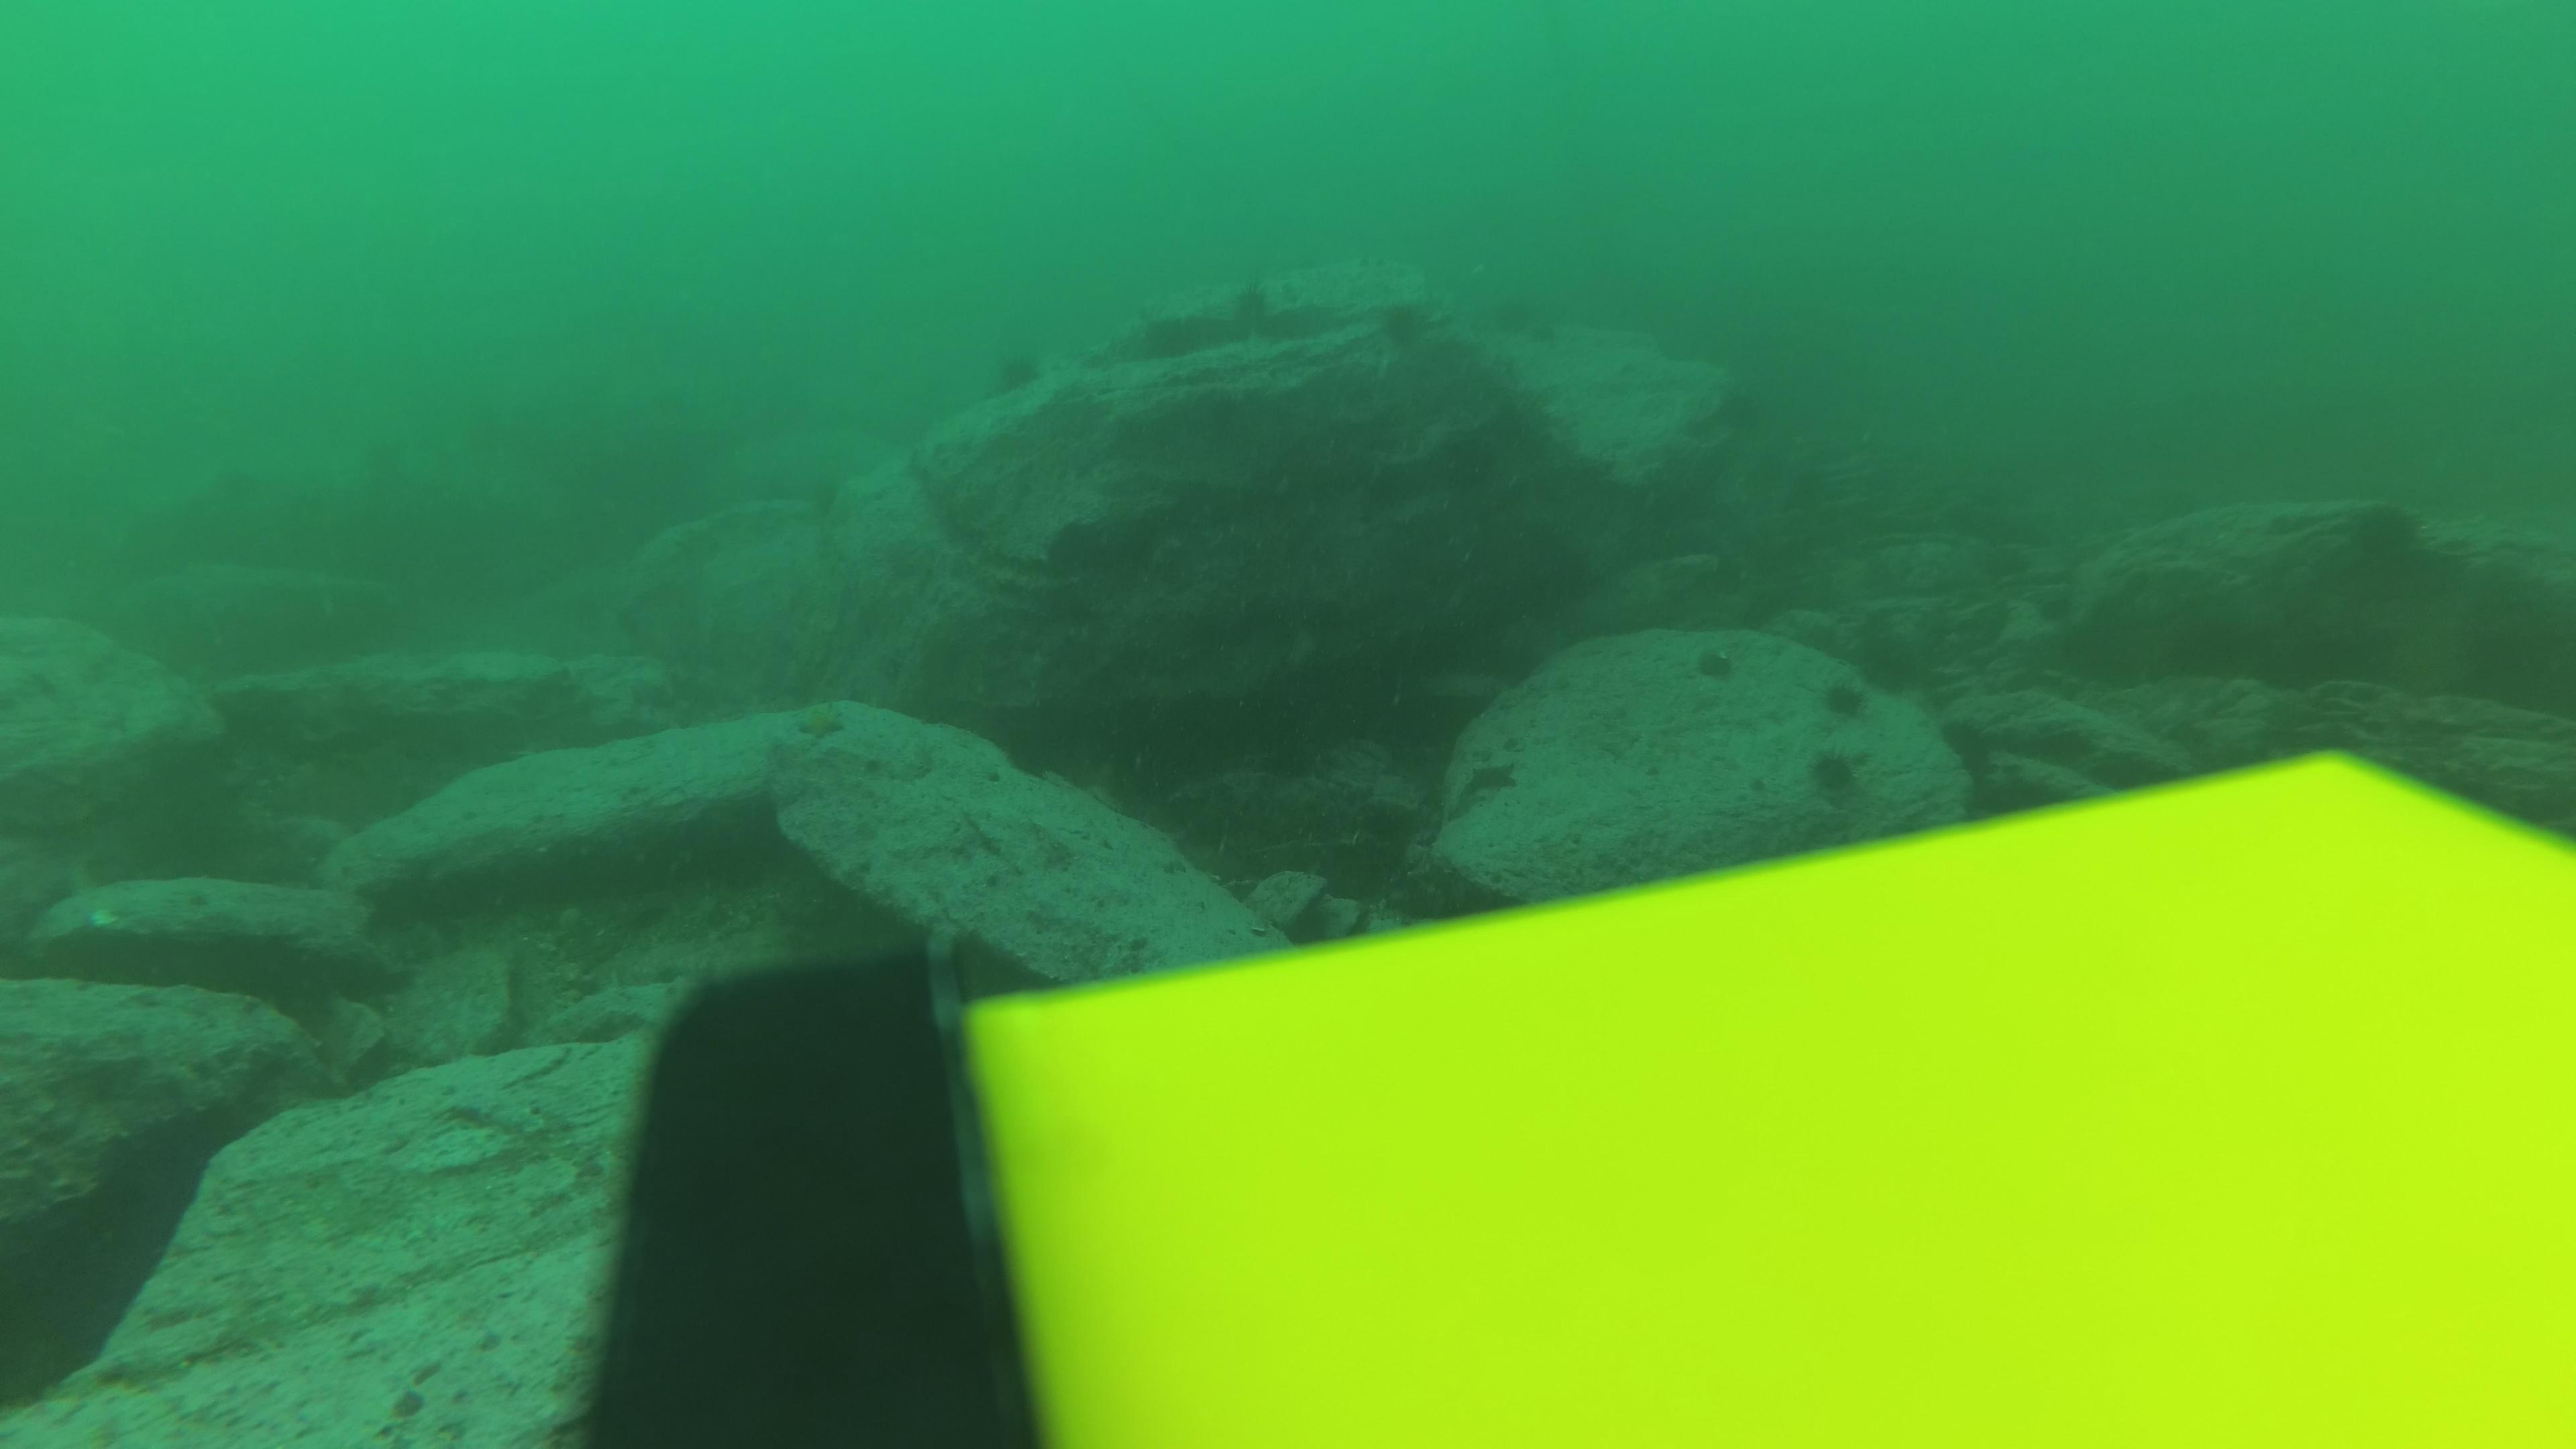echinus: (2334, 495, 2434, 586), (1369, 292, 1440, 361), (1223, 267, 1293, 334), (984, 336, 1054, 403), (1803, 743, 1868, 805), (1813, 669, 1877, 725), (1688, 639, 1743, 688)
starfish: (1460, 754, 1523, 803), (786, 699, 851, 747)
